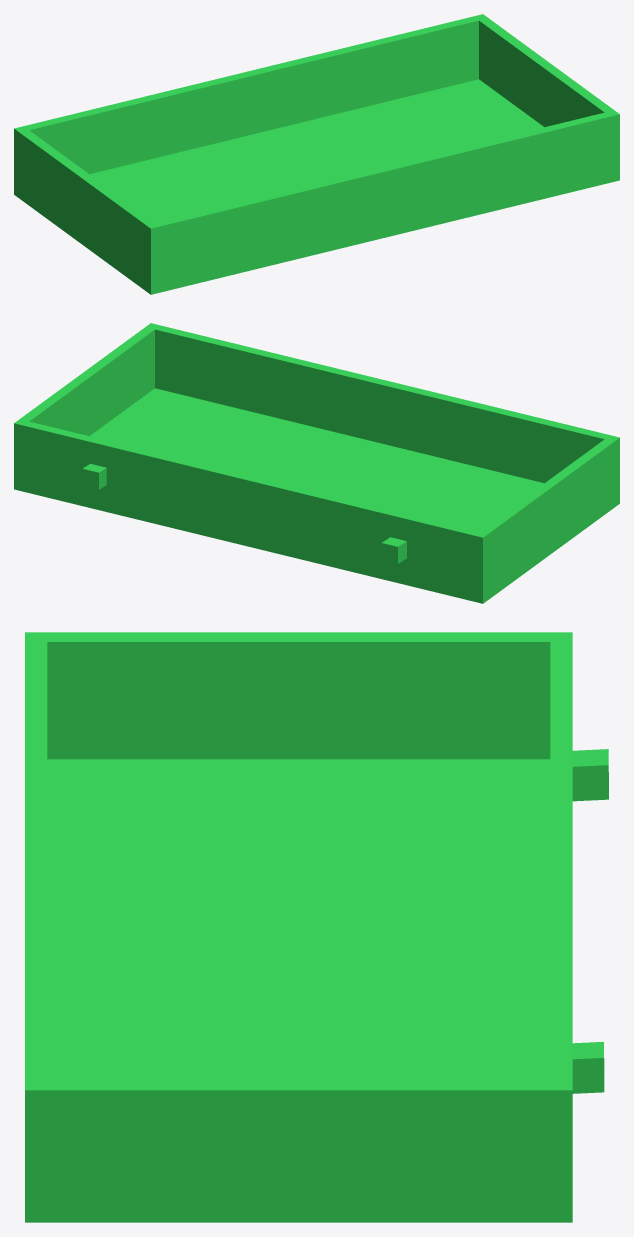
The model's file is Chest_Of_Draws_Draw.fbx.
3 views of the same model, one above another, from view 1: azimuth 30°, elevation 25°; view 2: azimuth 150°, elevation 25°; view 3: azimuth 270°, elevation 25° (orthographic). The views are drawn at different scales.
Visible parts, largest first — view 1: Cube.090; view 2: Cube.090; view 3: Cube.090.
Boxes of the visible parts, <box> form: Cube.090: <box>14,14,619,294</box>; Cube.090: <box>14,323,619,603</box>; Cube.090: <box>25,632,608,1222</box>.
Size of the model in its own units: 170 by 22.86 by 91.43.
